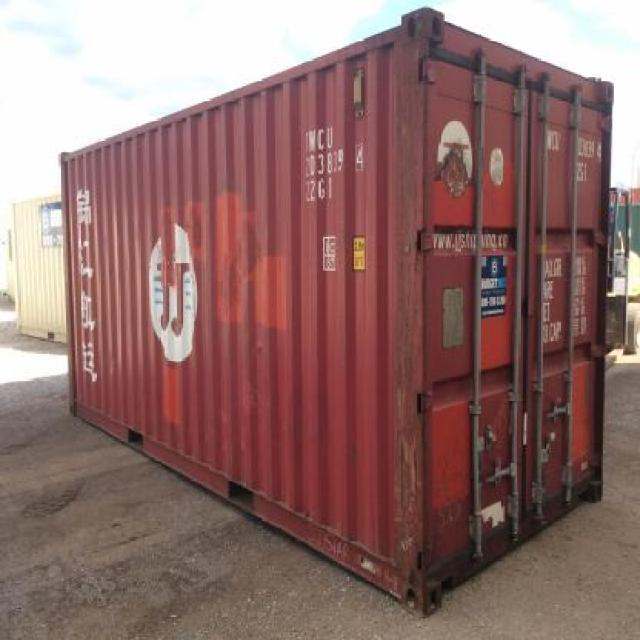ISO: (580, 160, 598, 190)
container_number: (542, 130, 602, 158)
